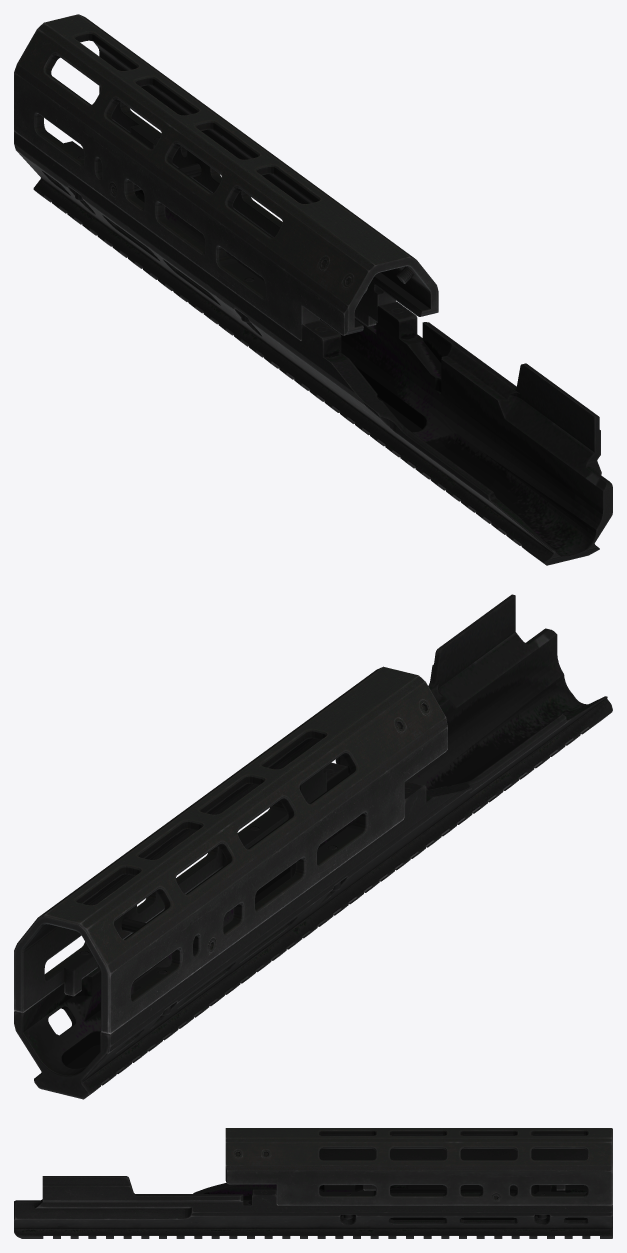
3 renders of one model, top to bottom at view 1: azimuth 30°, elevation 25°; view 2: azimuth 150°, elevation 25°; view 3: azimuth 270°, elevation 25°, orthographic. The views are drawn at different scales.
Visible parts, largest first — view 1: TW_628b916469015a4e1711ed8d_PZ_Import; view 2: TW_628b916469015a4e1711ed8d_PZ_Import; view 3: TW_628b916469015a4e1711ed8d_PZ_Import.
Boxes of the visible parts, <box> form: TW_628b916469015a4e1711ed8d_PZ_Import: <box>14,14,612,565</box>; TW_628b916469015a4e1711ed8d_PZ_Import: <box>14,594,612,1099</box>; TW_628b916469015a4e1711ed8d_PZ_Import: <box>14,1128,612,1238</box>.
Size of the model in its own units: 0.0217 by 0.1962 by 0.0361.
1 material, 1 textured.
